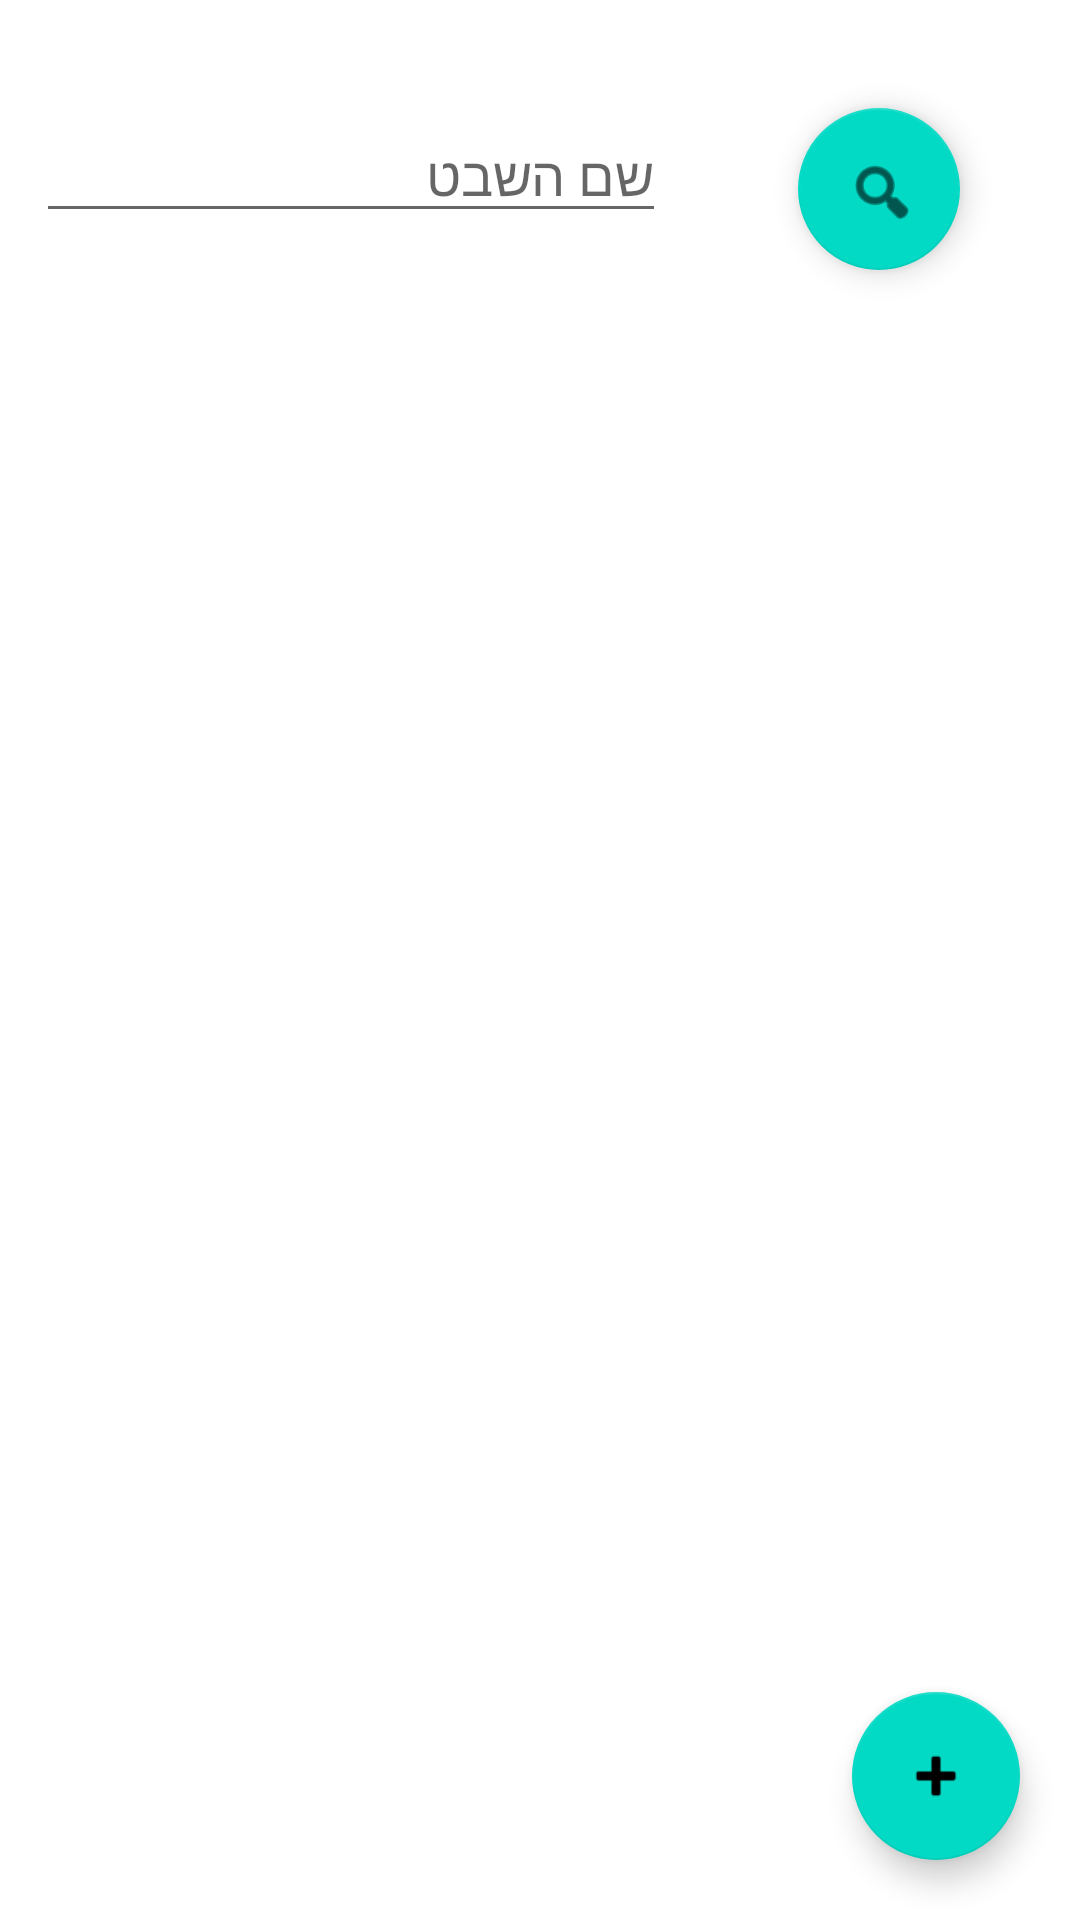

Icon click points for this 1080w x 1920h phone screenshot, format point (x, y):
add: point (936, 1776)
search: point (879, 189)
